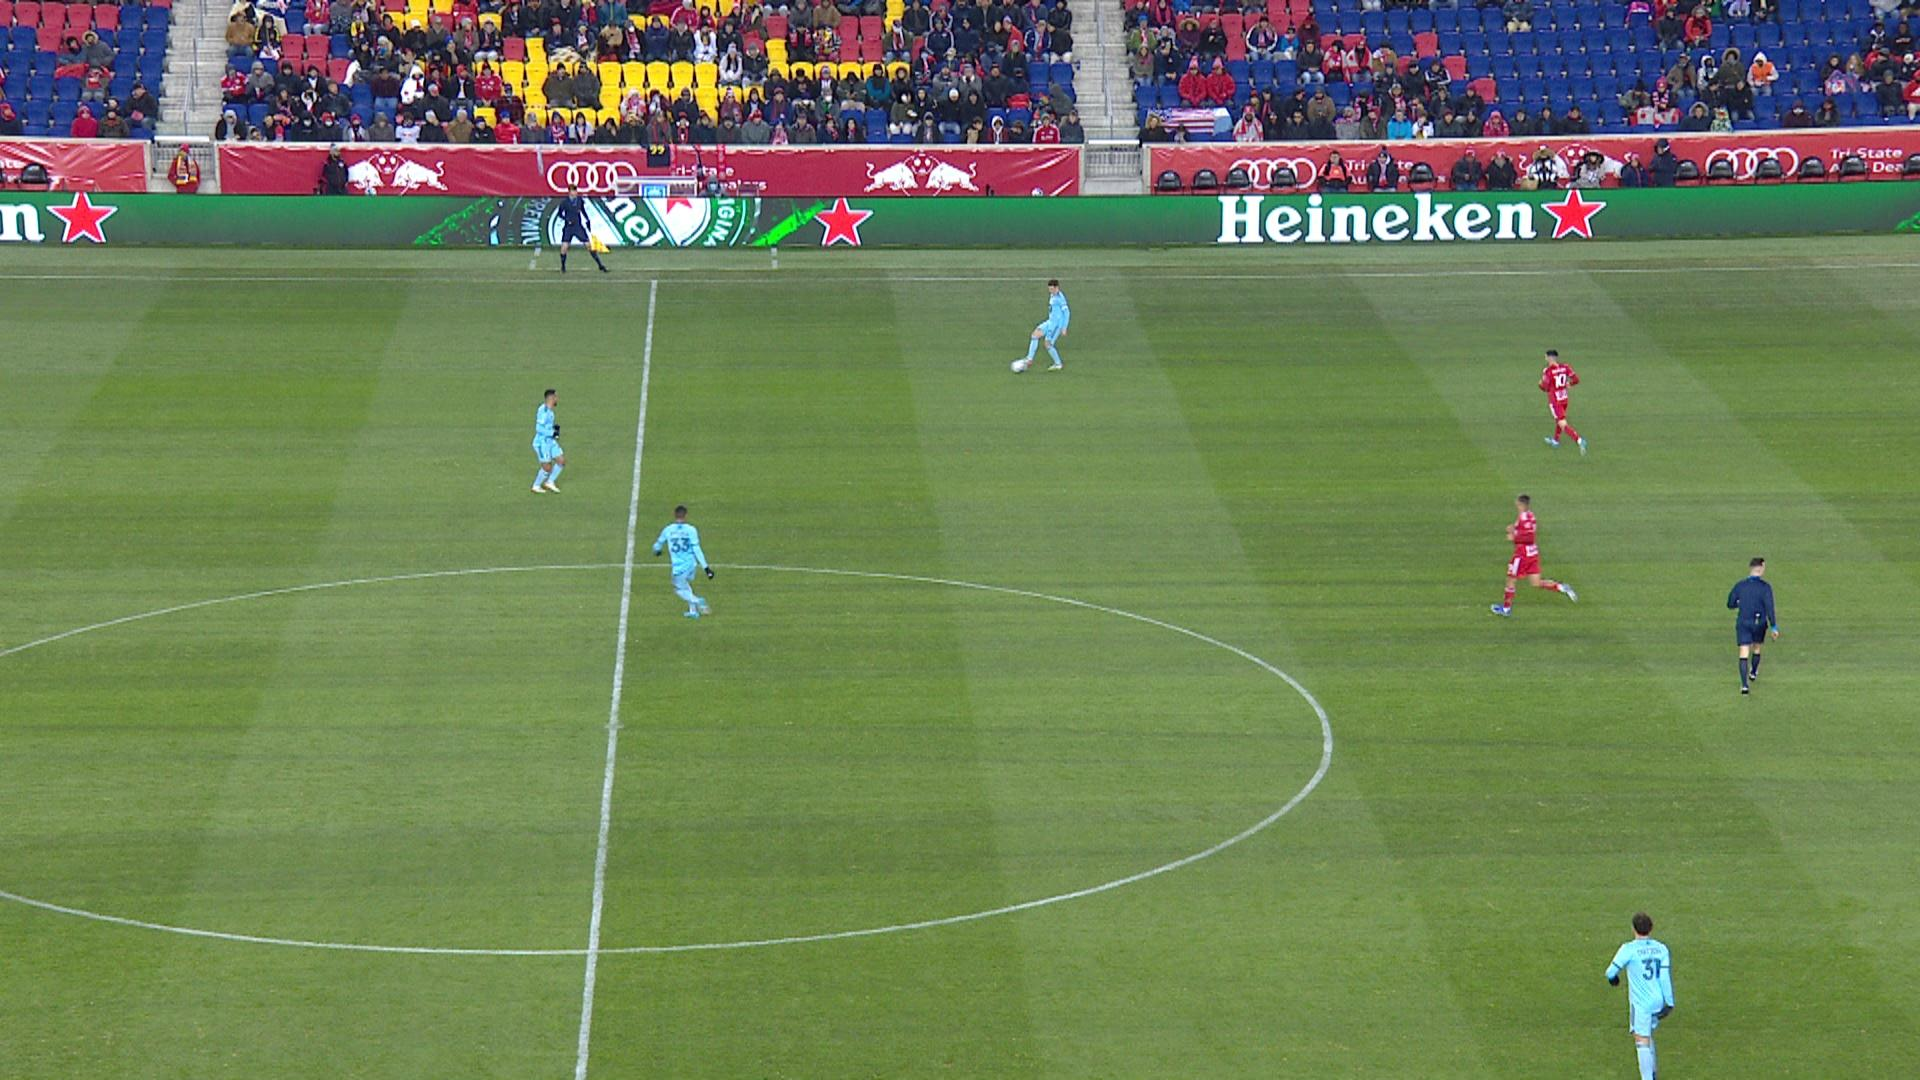football: (1010, 360, 1025, 374)
